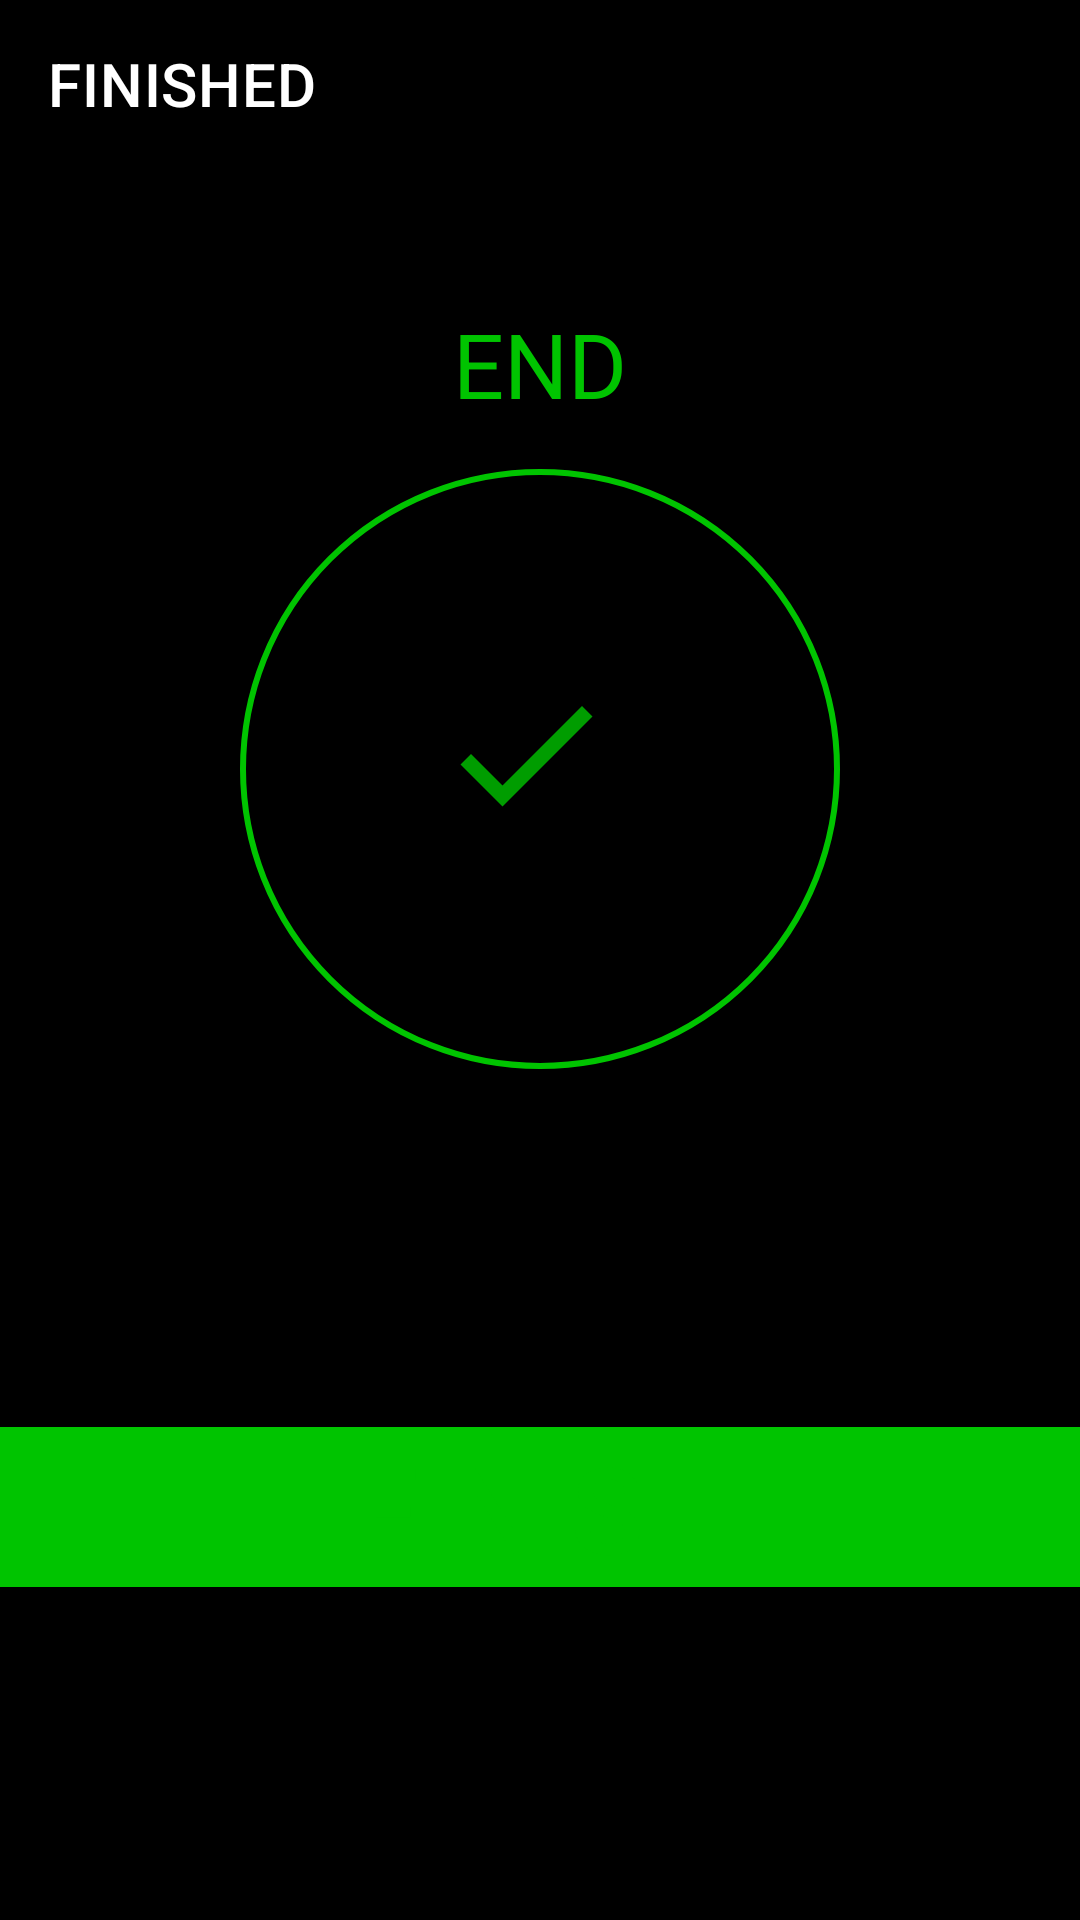

Icon click points for this 1080x1920 phone screenshot, format (x=x, y=y):
done: (x=526, y=756)
